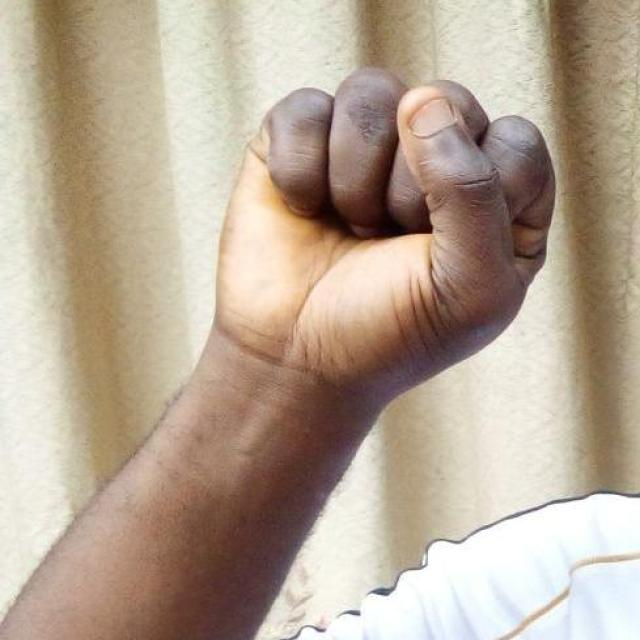hand: (209, 64, 556, 406)
